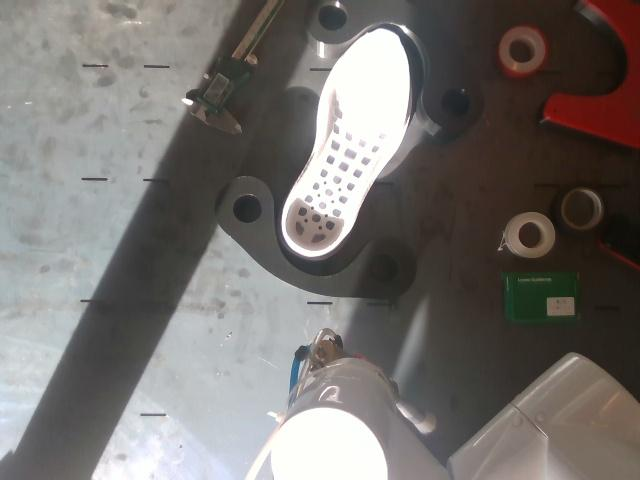shoes: (285, 29, 409, 251)
